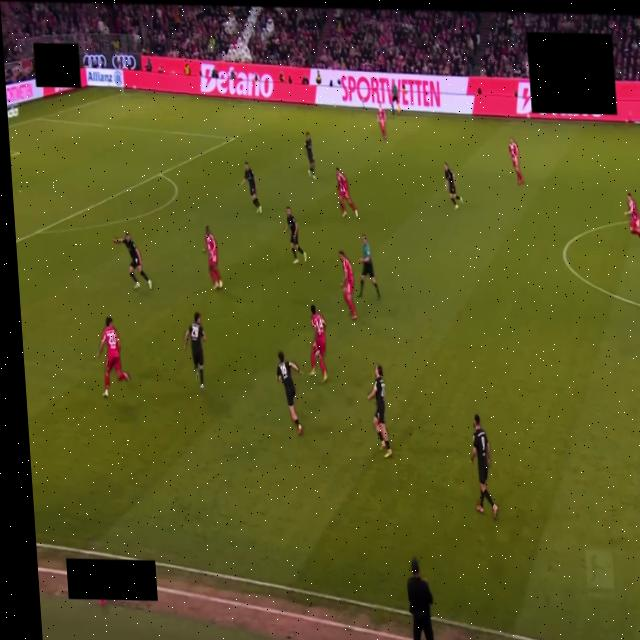player: (471, 415, 497, 518), (97, 317, 129, 397), (368, 366, 392, 458), (113, 234, 152, 290), (276, 352, 301, 434), (184, 312, 205, 391), (201, 226, 223, 290), (310, 305, 327, 382), (284, 206, 306, 263), (339, 251, 357, 318), (337, 167, 358, 217), (242, 162, 261, 212), (444, 163, 462, 209), (509, 139, 523, 184), (625, 194, 639, 237), (305, 133, 315, 179), (376, 102, 388, 139)
referee: (358, 236, 380, 300)
